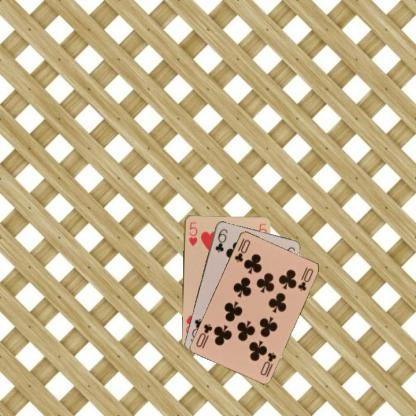10c: (258, 349, 277, 378), (232, 237, 251, 263)
5h: (186, 219, 198, 247)
6c: (212, 226, 228, 254)
